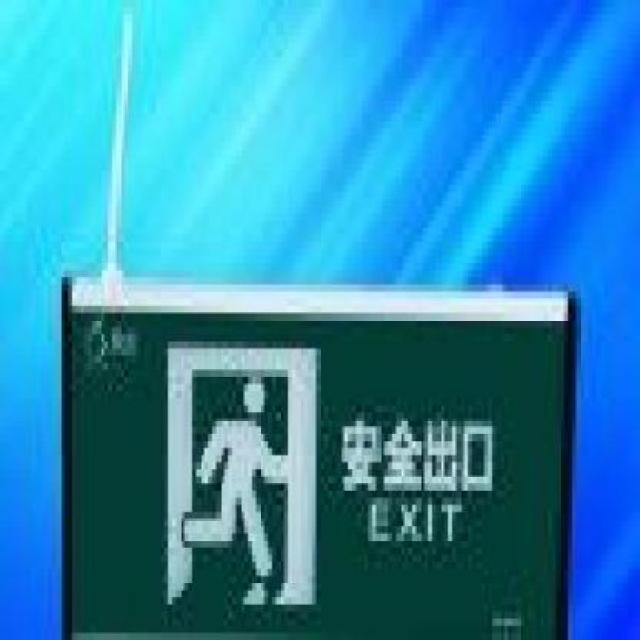exit_sign: (46, 243, 582, 639)
